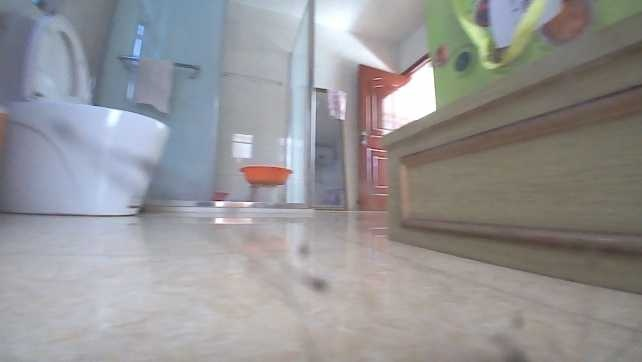toilet: (0, 3, 170, 216)
